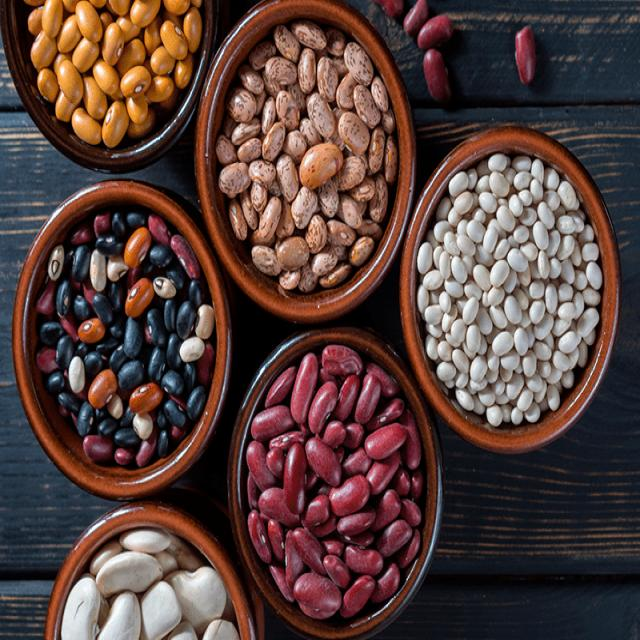frijoles: (247, 351, 419, 611)
garbanzos: (15, 0, 200, 146)
